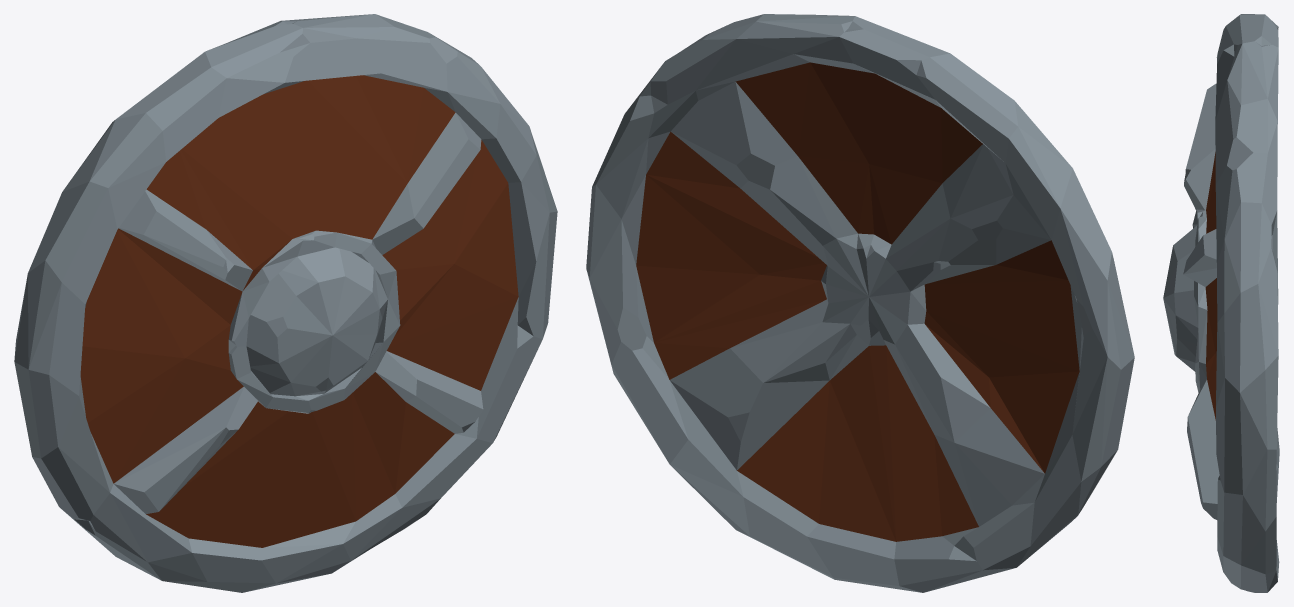
File: BasicCircular.fbx
The picture shows the model from 3 angles, left to right: view 1: azimuth 30°, elevation 25°; view 2: azimuth 150°, elevation 25°; view 3: azimuth 270°, elevation 25°; orthographic projection. The views are drawn at different scales.
Visible parts, largest first — view 1: CircularBasic; view 2: CircularBasic; view 3: CircularBasic.
Part boxes in pixels (bbox=[...]): CircularBasic: bbox=[14, 14, 557, 592]; CircularBasic: bbox=[586, 14, 1134, 592]; CircularBasic: bbox=[1163, 14, 1279, 592].
Bounding box in the file's own units: 71.11 × 70.88 × 14.24.
